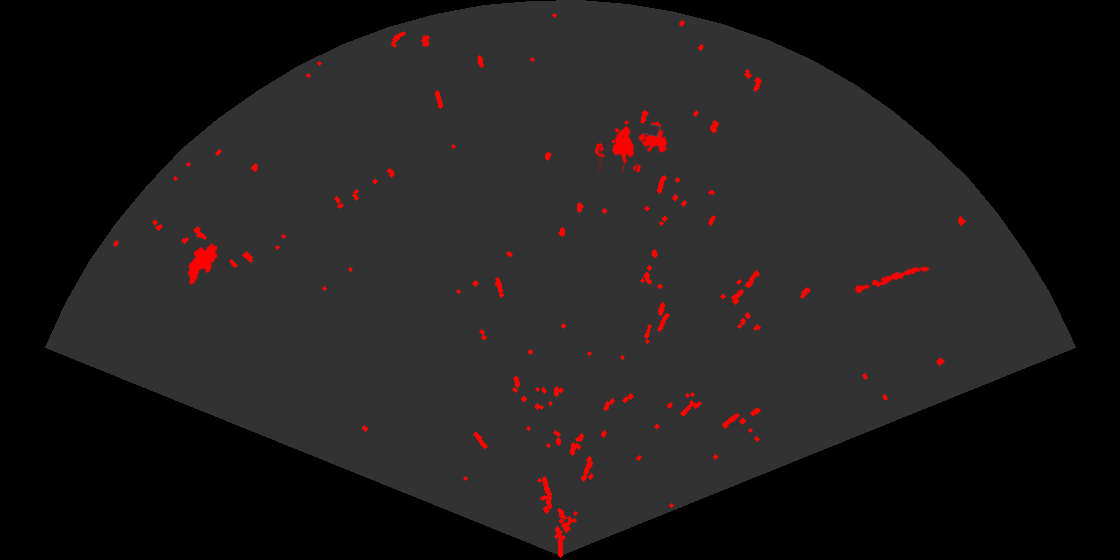AUV: (186, 242, 219, 286)
cage: (598, 118, 669, 172)
chain: (849, 265, 932, 295)
